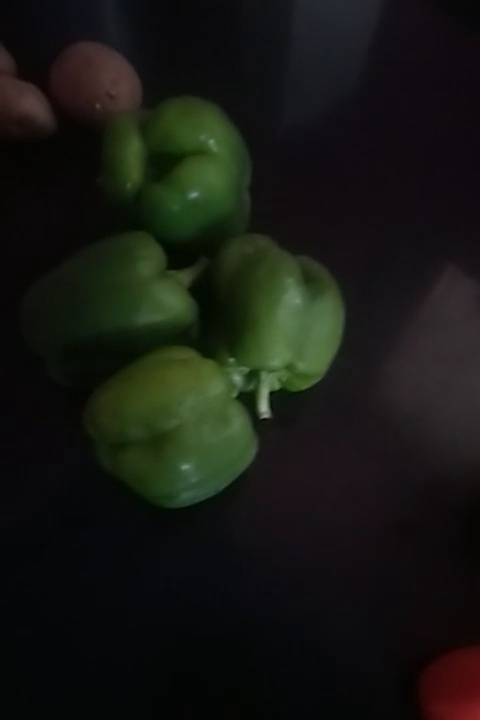capsicum: (88, 348, 269, 513), (20, 237, 212, 380), (86, 111, 276, 238), (205, 233, 346, 400)
potato: (50, 40, 155, 126), (1, 69, 59, 144)
